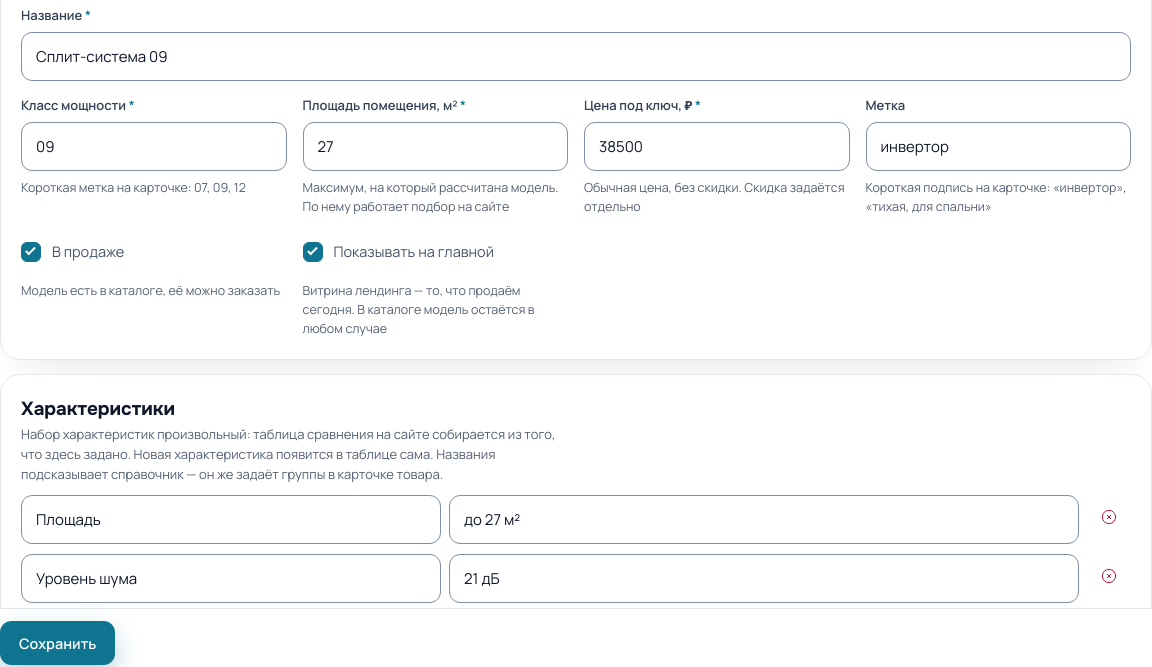
Scenario: Форма модели каталога › отказ без указания поля объясняется над кнопкой
Click the button "Сохранить". click: (58, 643)
box: x1=0 y1=621 x2=115 y2=665
(page scrolled)
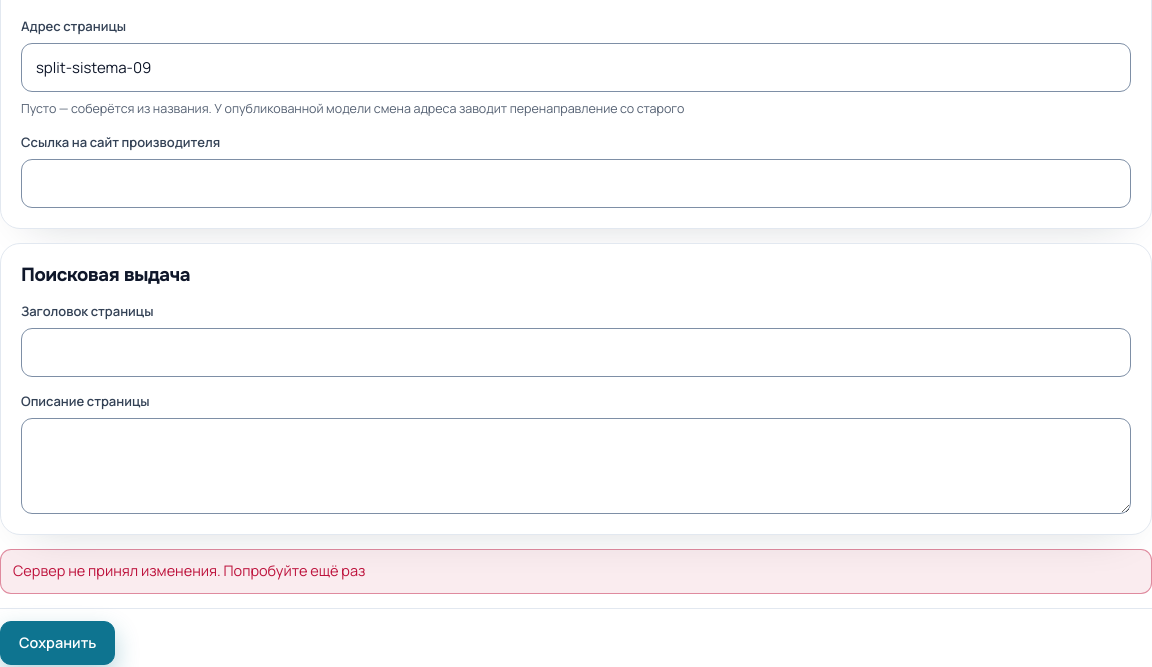
Now the message reads "Сервер не принял изменения. Попробуйте ещё раз", box x1=13 y1=561 x2=365 y2=580
